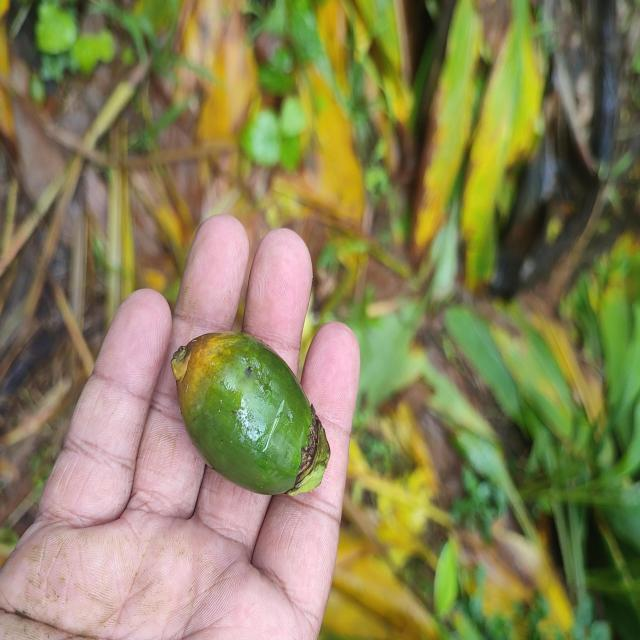good: (169, 332, 331, 498)
